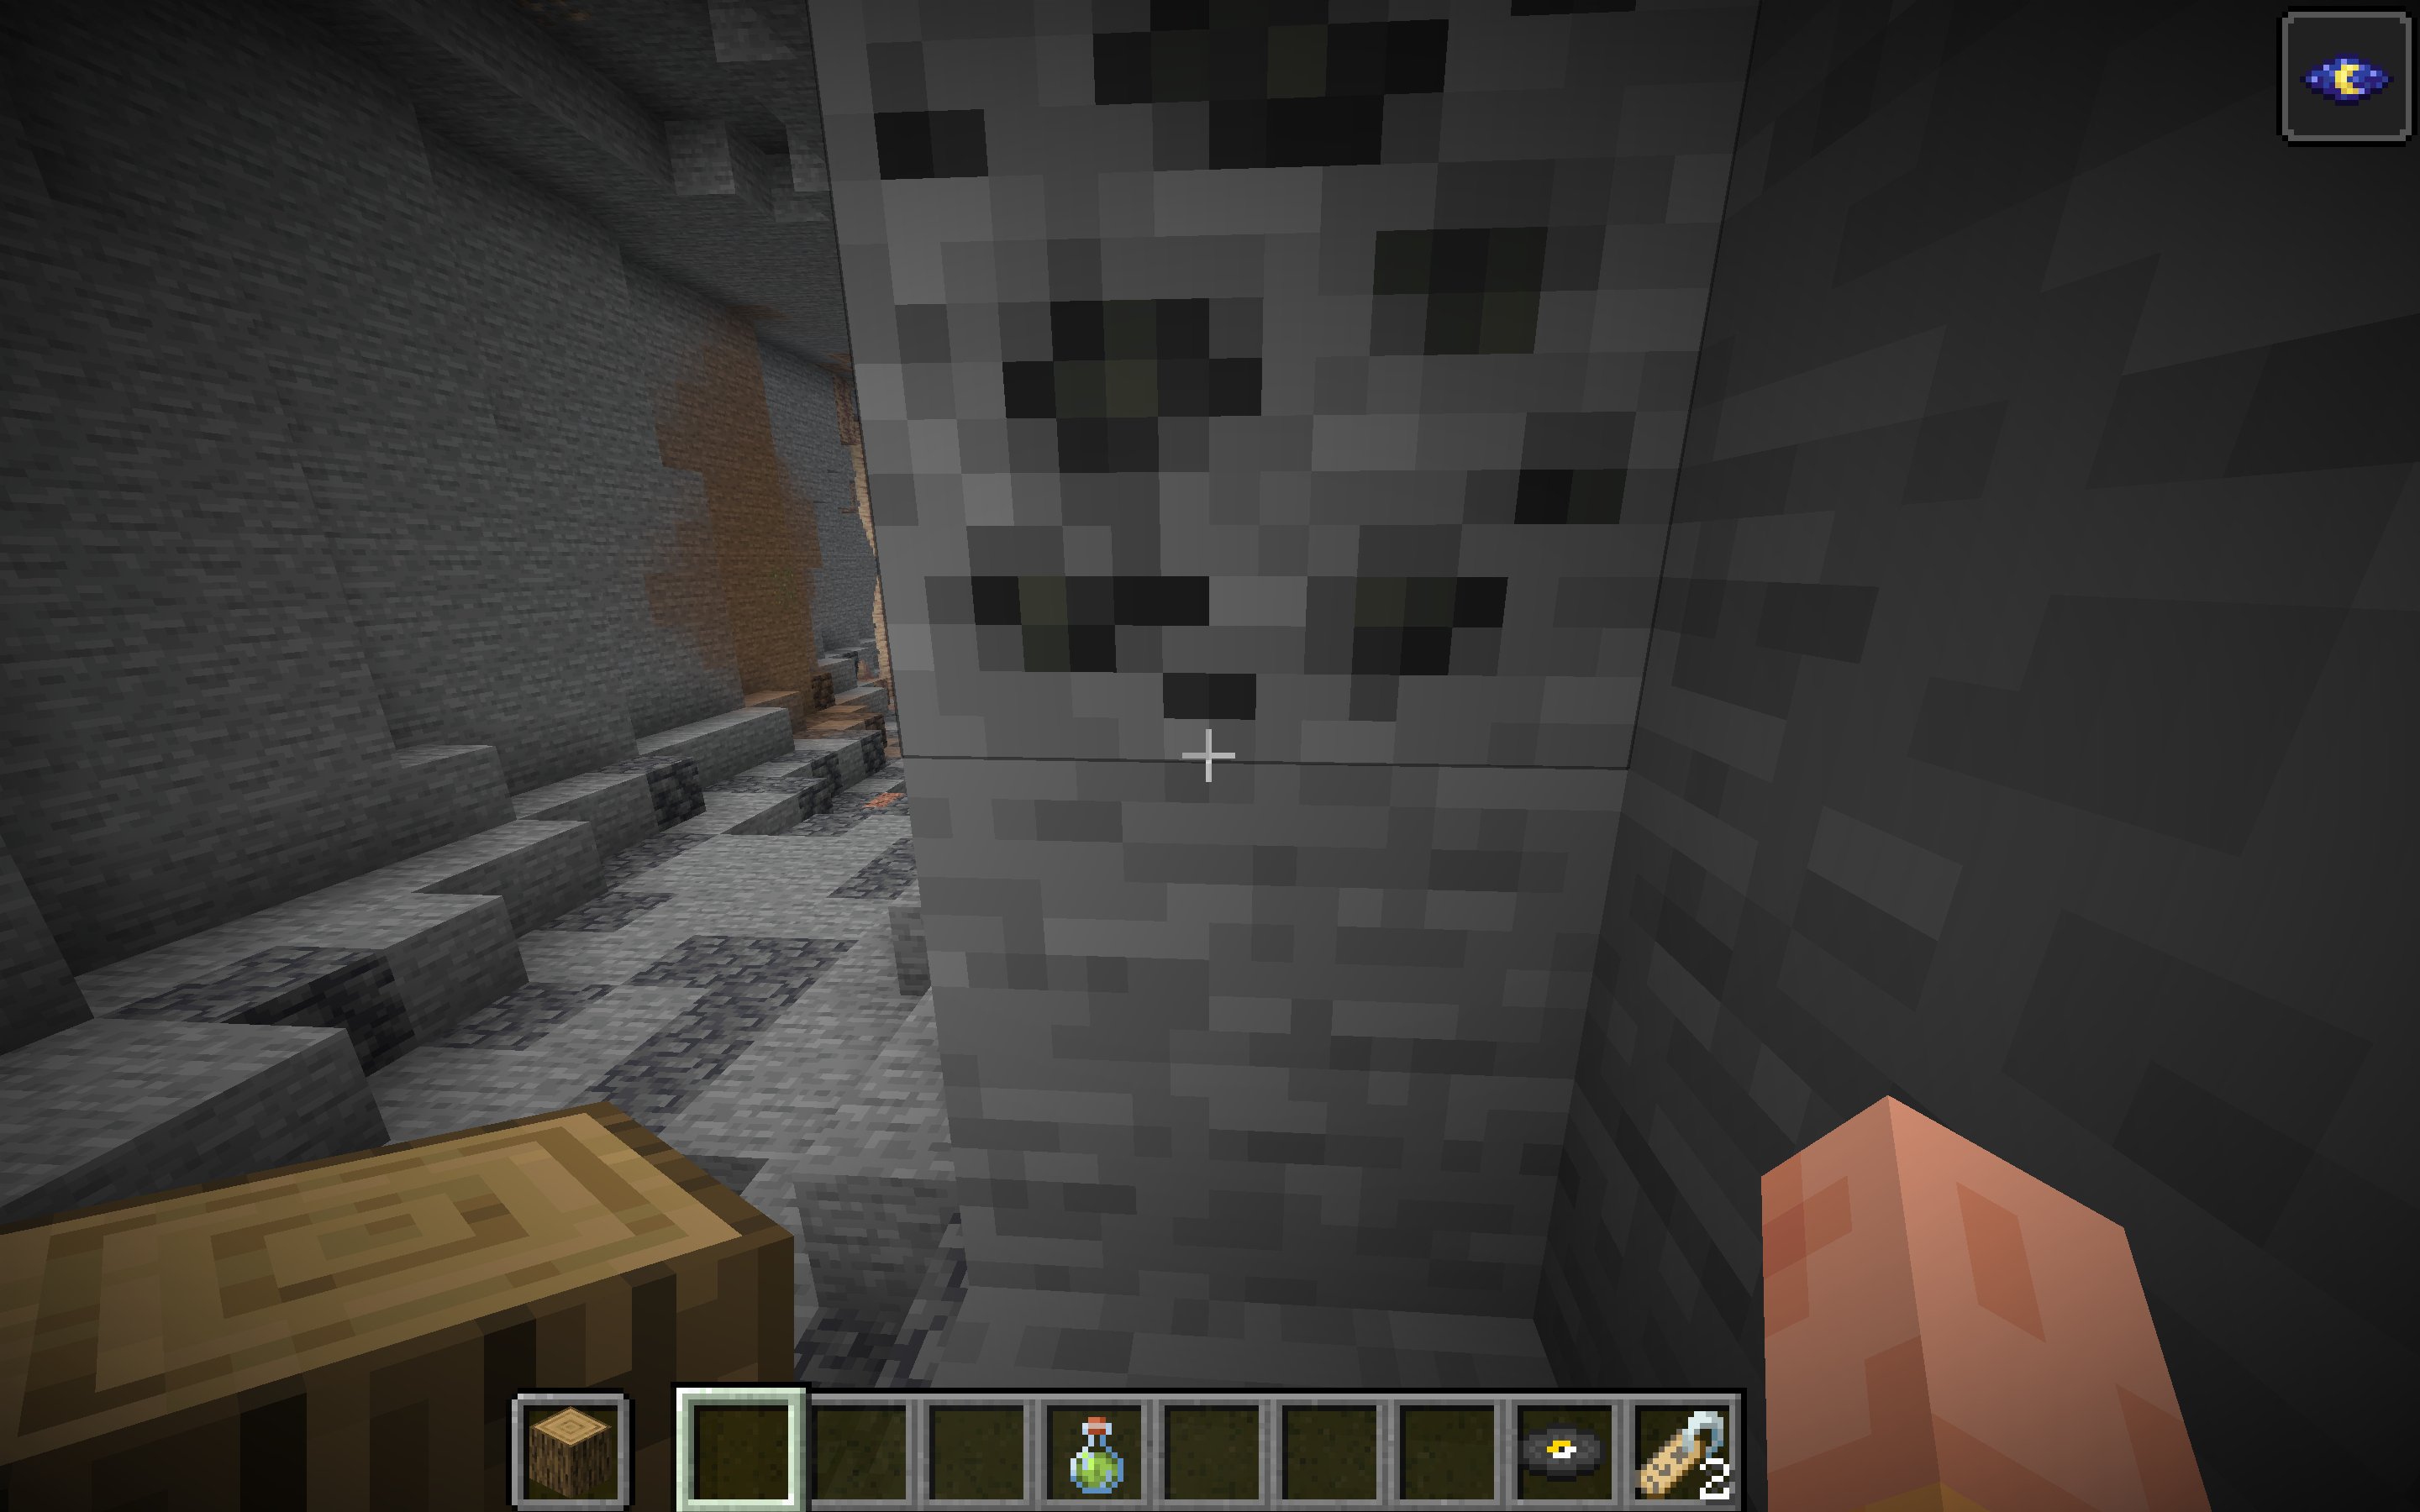coal: (439, 24, 2136, 1122)
